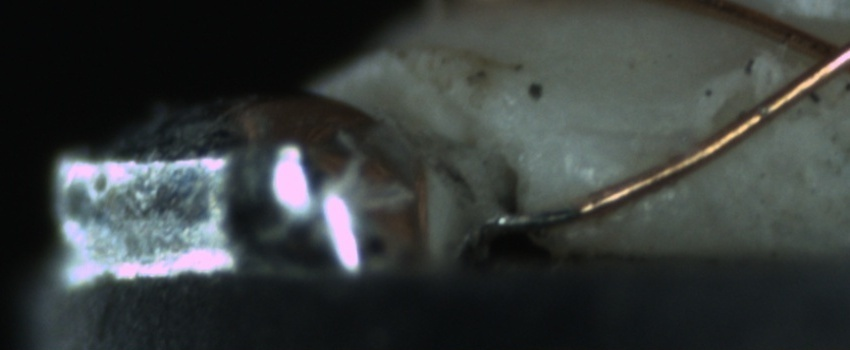CL: (797, 23, 849, 89)
DL: (559, 101, 696, 162)
TS: (492, 202, 579, 232)
TTCW: (484, 187, 605, 235)
